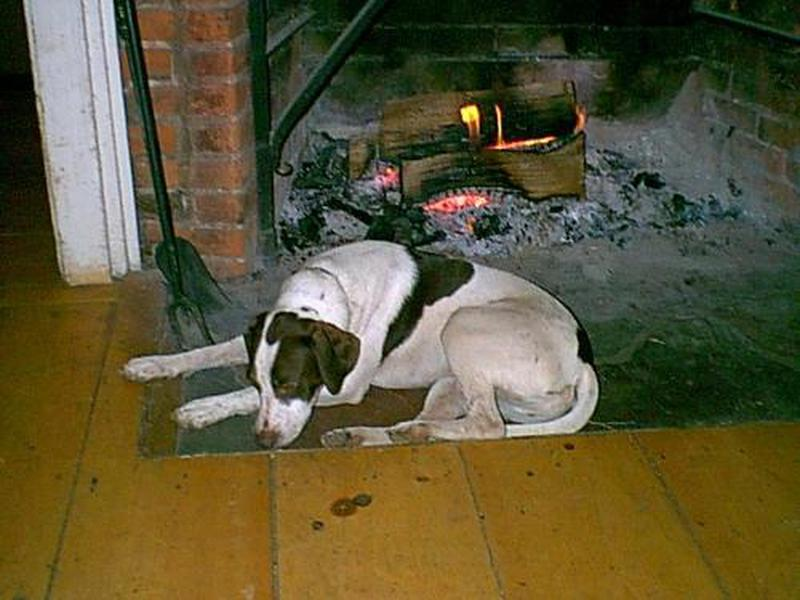dog: (109, 235, 611, 449)
